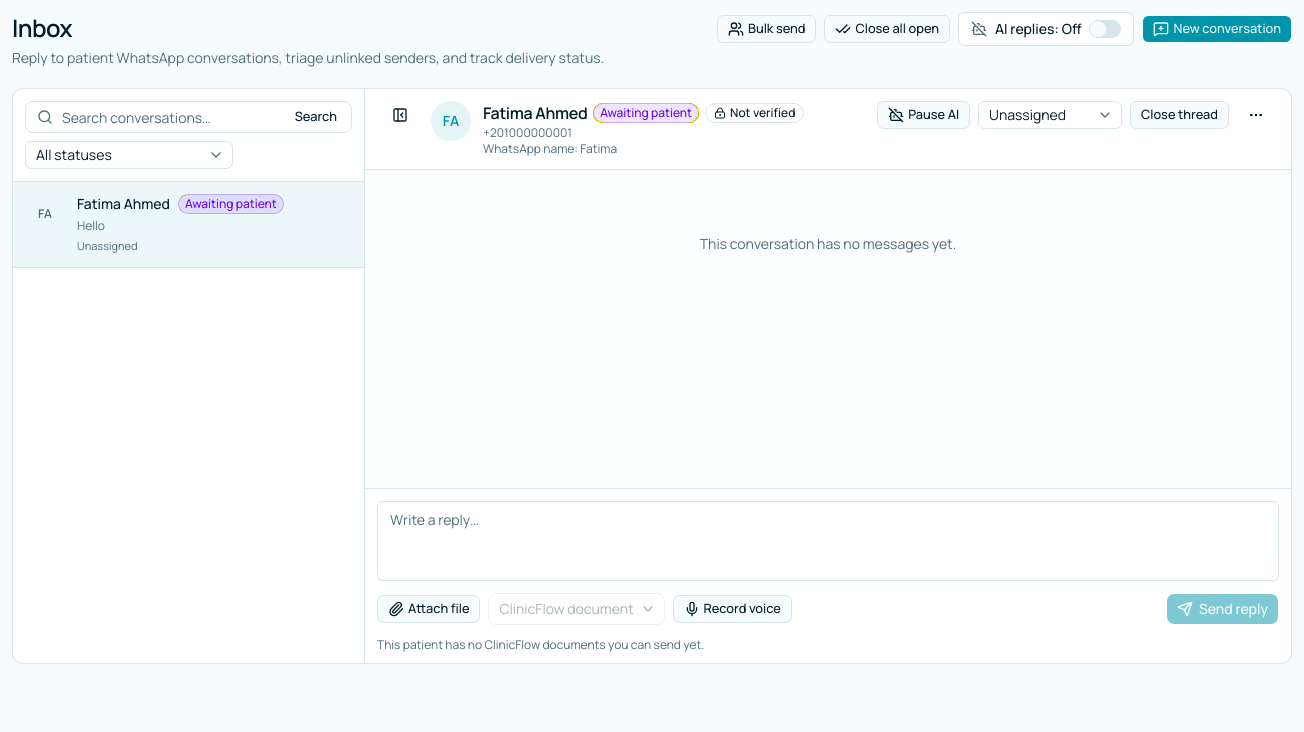
Test case: the laptop layout › puts the secondary controls in the overflow menu, and only there
This screenshot has width=1304, height=732.
Expected: the text "Change patient" is not shown
Step 1. Click the button with test id "conversation-more-actions" → (1256,115), box x1=1237 y1=101 x2=1275 y2=129
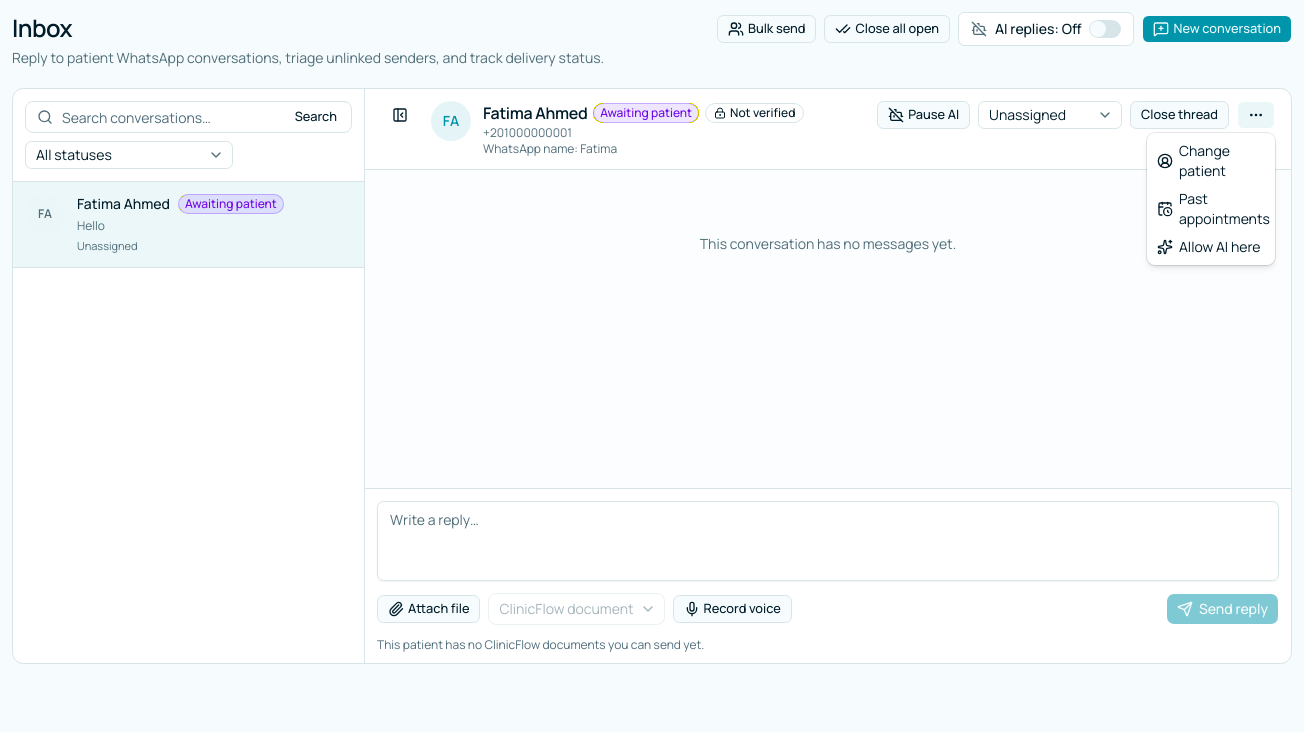
Result: the menu item "Change patient" is shown at x1=1157 y1=141 x2=1230 y2=180
Result: the menu item with test id "past-appointments-trigger" is shown at x1=1151 y1=185 x2=1271 y2=233
